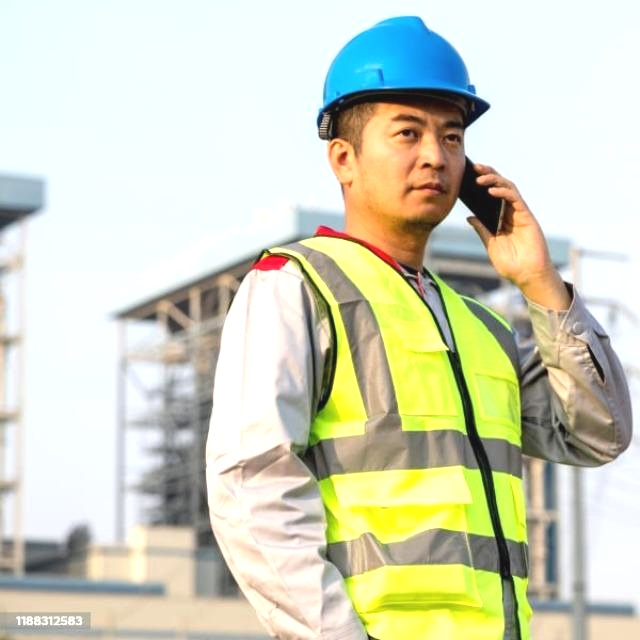Con_Casco: (314, 15, 490, 225)
Con_Chaleco: (252, 240, 540, 640)
